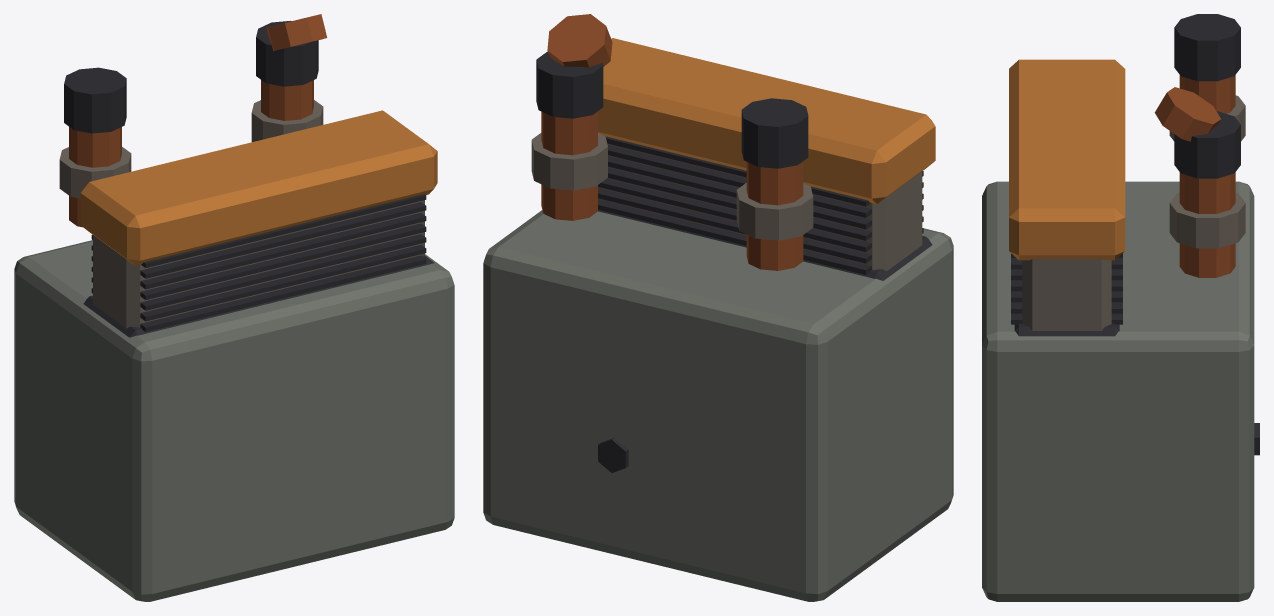
The model's file is mo_fins.glb.
3 renders of one model, left to right at view 1: azimuth 30°, elevation 25°; view 2: azimuth 150°, elevation 25°; view 3: azimuth 270°, elevation 25°, orthographic. The views are drawn at different scales.
Parts seen in each view (by area): view 1: mo_fins; view 2: mo_fins; view 3: mo_fins.
Boxes of the visible parts, bbox=[...] form: mo_fins: bbox=[14, 14, 454, 601]; mo_fins: bbox=[483, 14, 953, 601]; mo_fins: bbox=[982, 14, 1259, 601].
Size of the model in its own units: 0.1293 by 0.1792 by 0.0935.
